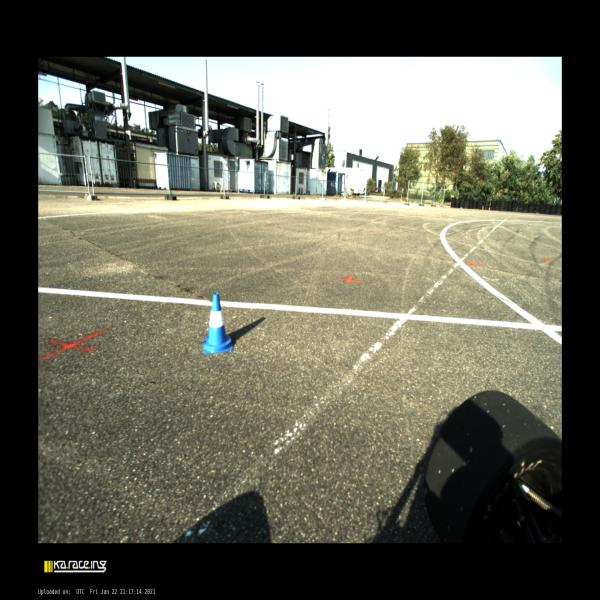blue_cone: (202, 292, 232, 353)
